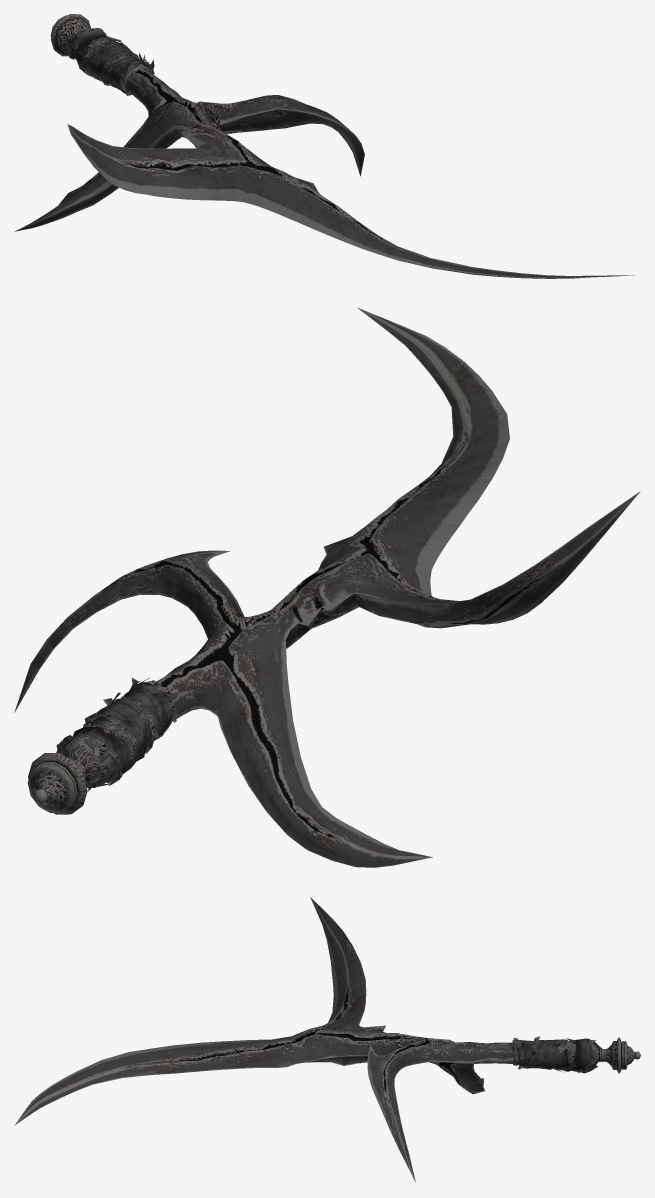
3 renders of one model, top to bottom at view 1: azimuth 30°, elevation 25°; view 2: azimuth 150°, elevation 25°; view 3: azimuth 270°, elevation 25°, orthographic. The views are drawn at different scales.
Visible parts, largest first — view 1: WP_A_0101, WP_A_0101.001; view 2: WP_A_0101, WP_A_0101.001; view 3: WP_A_0101, WP_A_0101.001.
Part boxes in pixels (x1,y1,x2,y2): WP_A_0101: (15, 14, 634, 278); WP_A_0101.001: (66, 27, 154, 95); WP_A_0101: (14, 307, 640, 867); WP_A_0101.001: (56, 677, 176, 791); WP_A_0101: (14, 897, 640, 1182); WP_A_0101.001: (511, 1036, 601, 1073).
Size of the model in its own units: 34.68 by 17.17 by 62.7.
2 materials, 2 textured.
